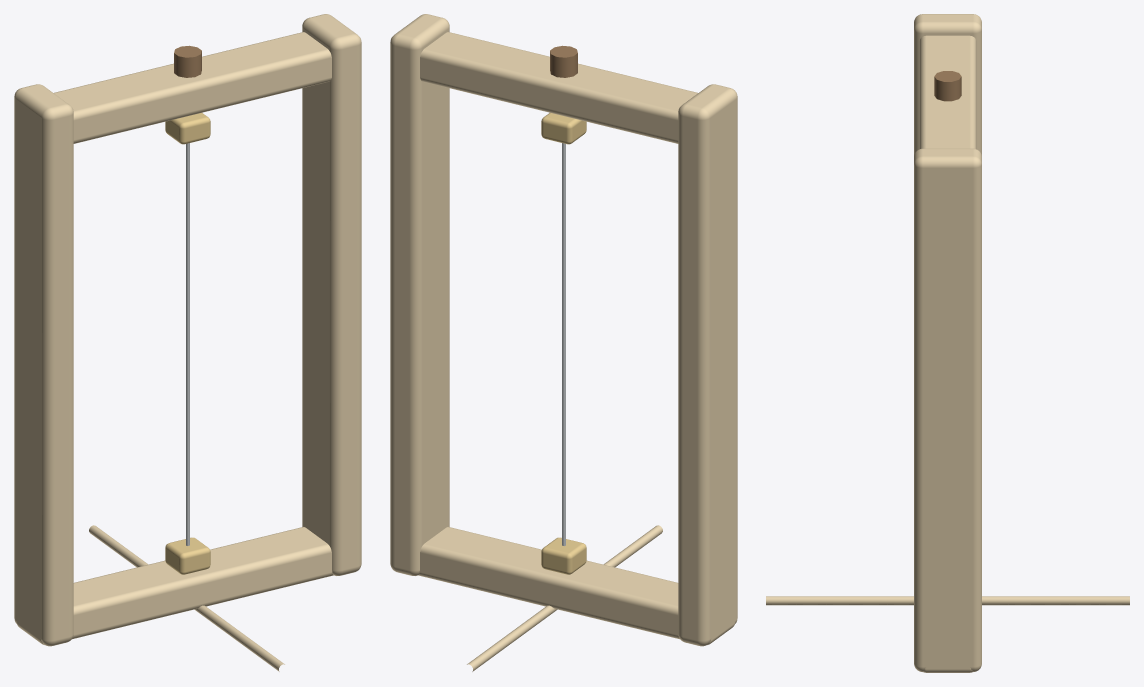
The model's file is marquetry-and-veneer-inlay-workshop-deep-throat-fret-s-20589cff__39086.glb.
The picture shows the model from 3 angles, left to right: view 1: azimuth 30°, elevation 25°; view 2: azimuth 150°, elevation 25°; view 3: azimuth 270°, elevation 25°; orthographic projection. The views are drawn at different scales.
Visible parts, largest first — view 1: deep-throat-fret-saw; view 2: deep-throat-fret-saw; view 3: deep-throat-fret-saw.
Part boxes in pixels (x1,y1,x2,y2): deep-throat-fret-saw: (14, 14, 361, 671); deep-throat-fret-saw: (390, 14, 737, 671); deep-throat-fret-saw: (766, 14, 1129, 672).
Size of the model in its own units: 0.31 by 0.5128 by 0.32.
